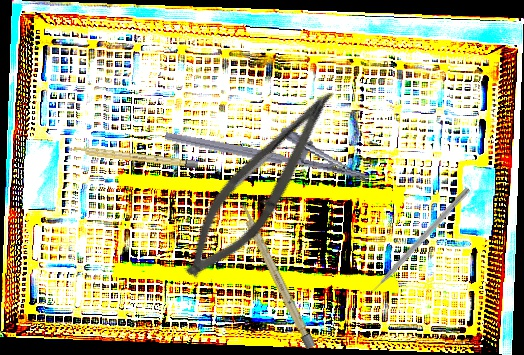Chopper: (357, 181, 472, 301)
Micro Scissor: (171, 70, 348, 295)
Needle Holder: (164, 102, 376, 185)
Scalpel Handle: (237, 202, 316, 350), (69, 145, 199, 169)
